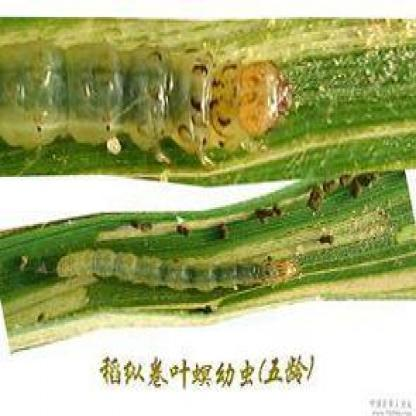leaf-folder: (0, 20, 303, 172), (56, 235, 298, 305)
